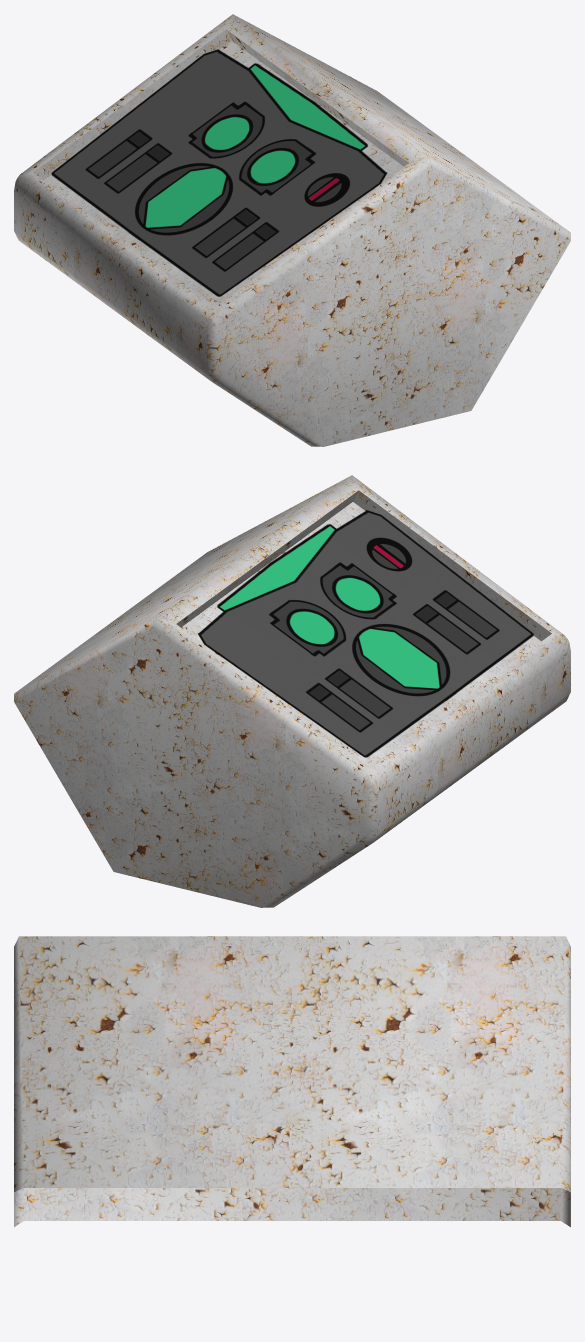
Rendered from control-panel.glb.
3 renders of one model, top to bottom at view 1: azimuth 30°, elevation 25°; view 2: azimuth 150°, elevation 25°; view 3: azimuth 270°, elevation 25°, orthographic. The views are drawn at different scales.
Parts seen in each view (by area): view 1: control panel_Baked, control panel top_Baked; view 2: control panel_Baked, control panel top_Baked; view 3: control panel_Baked.
Part boxes in pixels (x1,y1,x2,y2): control panel_Baked: [14, 14, 570, 446]; control panel top_Baked: [51, 49, 387, 296]; control panel_Baked: [14, 475, 570, 907]; control panel top_Baked: [198, 510, 533, 757]; control panel_Baked: [14, 936, 570, 1227].
Bounding box in the file's own units: 1.81 × 1.24 × 1.72.
Materials: 2 (2 with a texture image).
